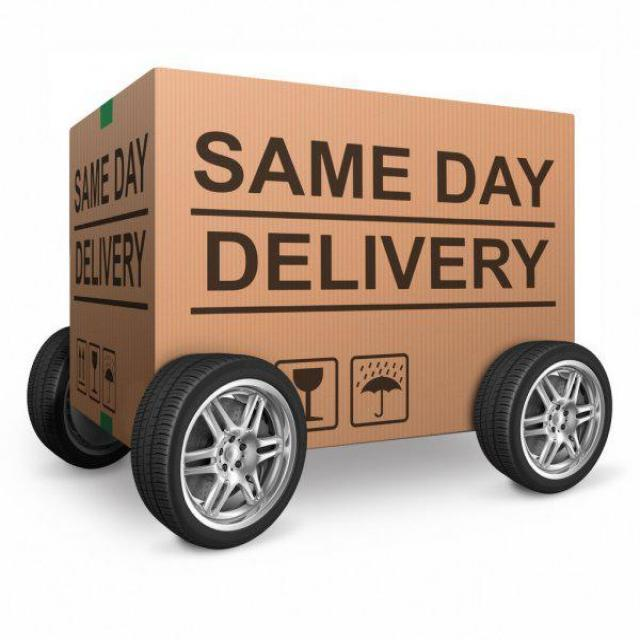box: (62, 56, 587, 454)
